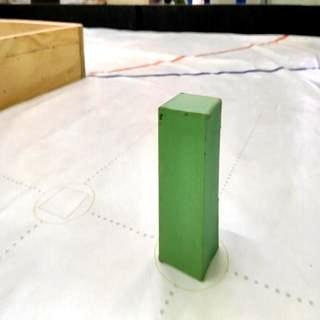greenbox: (156, 89, 223, 283)
